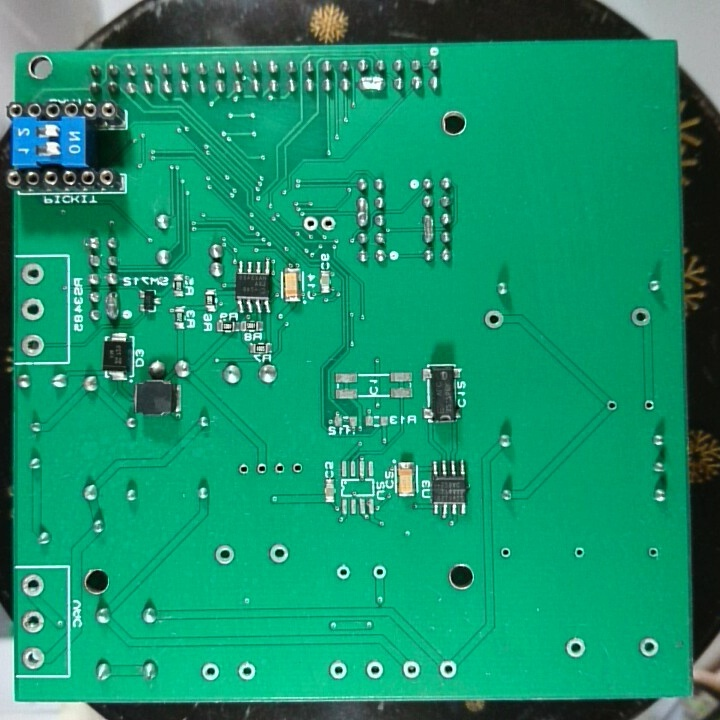F: (19, 643, 46, 673), (19, 259, 46, 286), (20, 609, 46, 637), (19, 295, 45, 323), (19, 572, 45, 599), (20, 333, 47, 359), (628, 304, 653, 332), (562, 635, 588, 661), (266, 540, 291, 567), (482, 307, 506, 332), (637, 635, 661, 660), (213, 542, 237, 567), (326, 657, 349, 682), (235, 659, 257, 682), (199, 660, 221, 683), (369, 559, 388, 585), (400, 658, 422, 680), (437, 658, 460, 679), (364, 659, 385, 682), (298, 214, 319, 236), (287, 455, 305, 480), (319, 212, 337, 236), (268, 457, 288, 478), (334, 562, 352, 583), (235, 459, 254, 477), (645, 543, 662, 563), (602, 397, 620, 415), (497, 543, 514, 562), (641, 395, 657, 414), (254, 458, 269, 478), (571, 543, 587, 561)
P: (354, 74, 387, 95), (102, 288, 120, 324), (354, 193, 371, 229), (420, 211, 437, 246)
